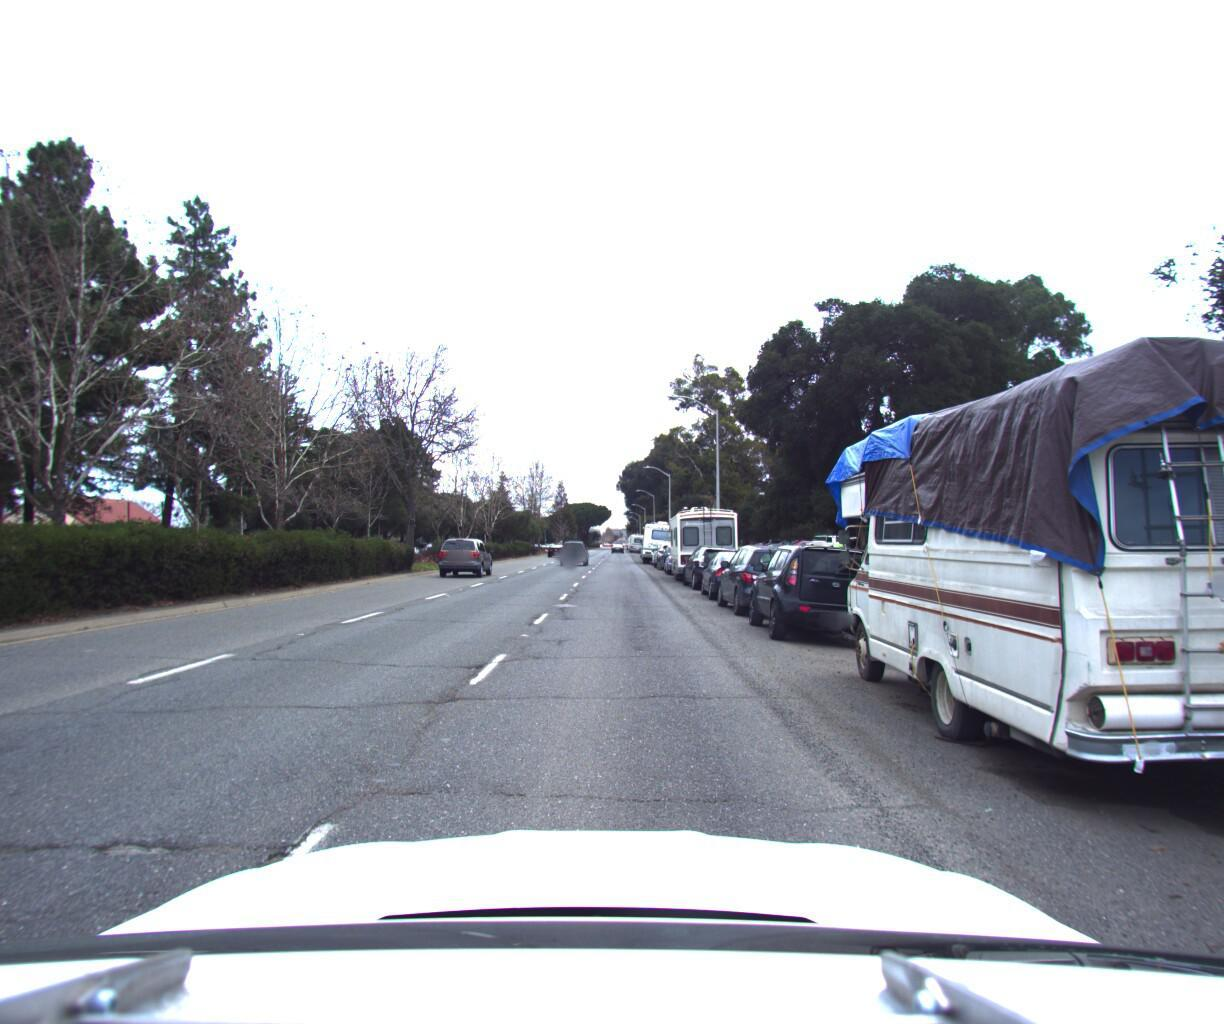car: (736, 530, 889, 641), (705, 532, 823, 617), (691, 538, 772, 595), (676, 534, 744, 583), (434, 529, 497, 571), (649, 534, 696, 565), (659, 536, 700, 570), (649, 533, 684, 563), (560, 529, 588, 555), (546, 534, 566, 547)
other_vehicle: (801, 268, 1224, 892), (659, 494, 741, 578), (638, 513, 679, 558)
